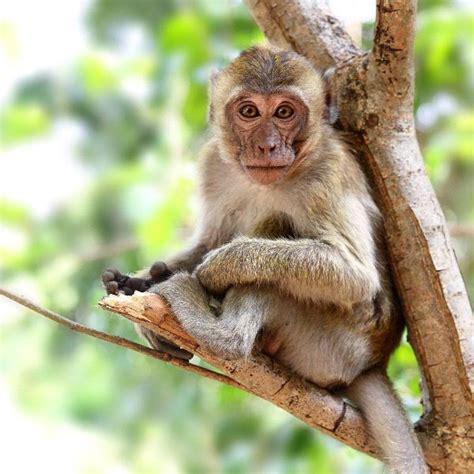monkey: (105, 46, 423, 474)
